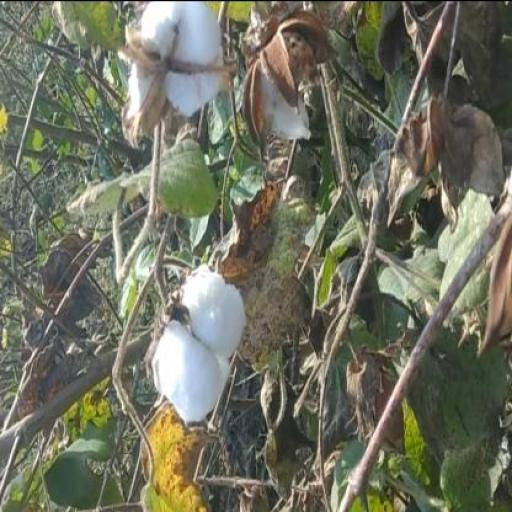cotton_ready: (151, 238, 254, 440), (116, 1, 231, 148)
